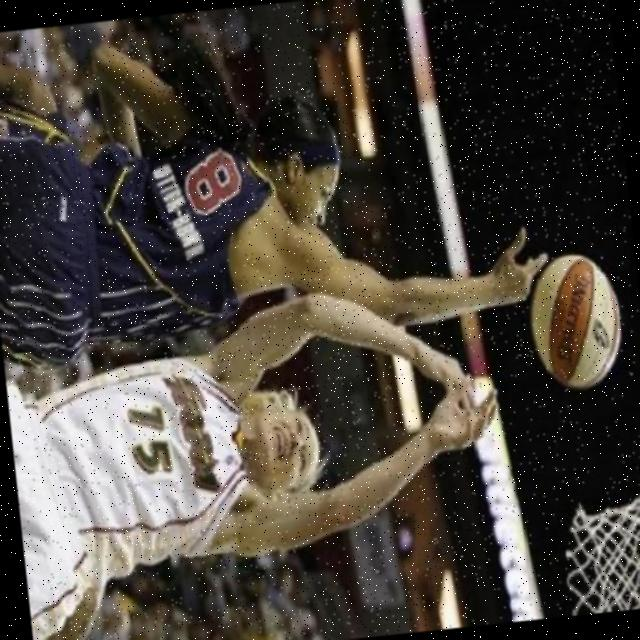ball: (532, 250, 626, 391)
